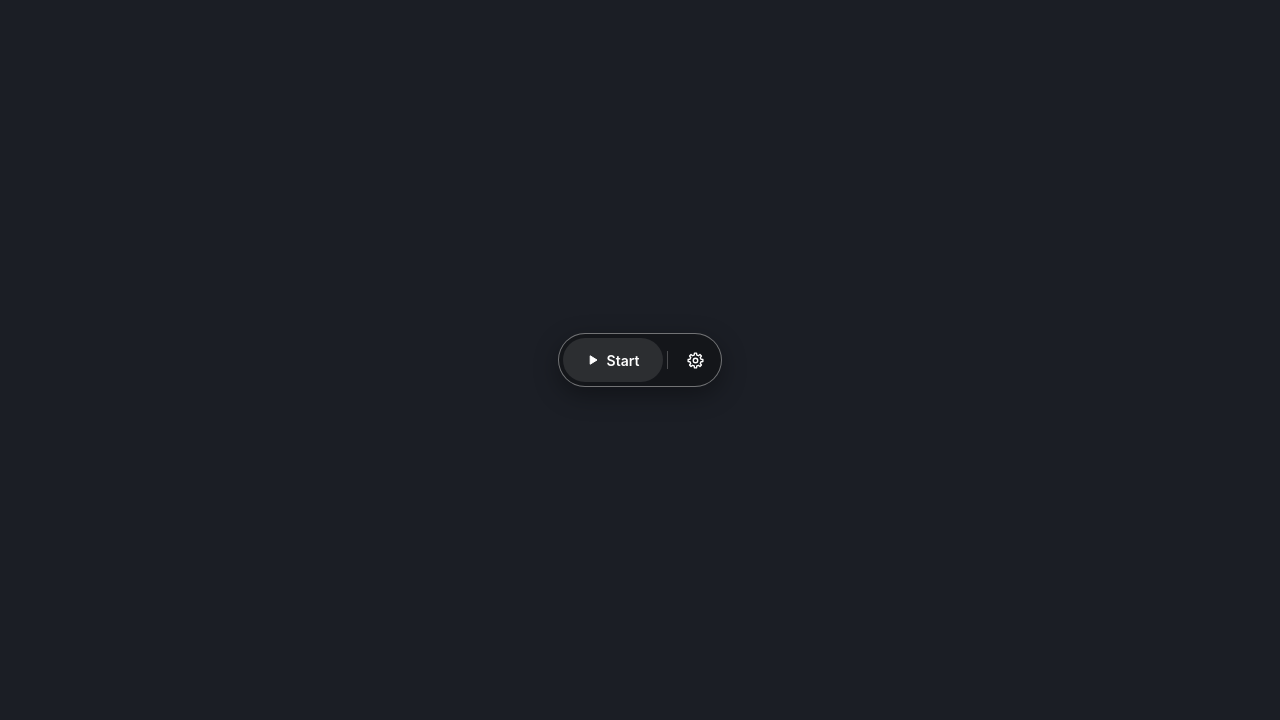
it: save as new › cancels with the Cancel button
The image size is (1280, 720).
Type keys "s"
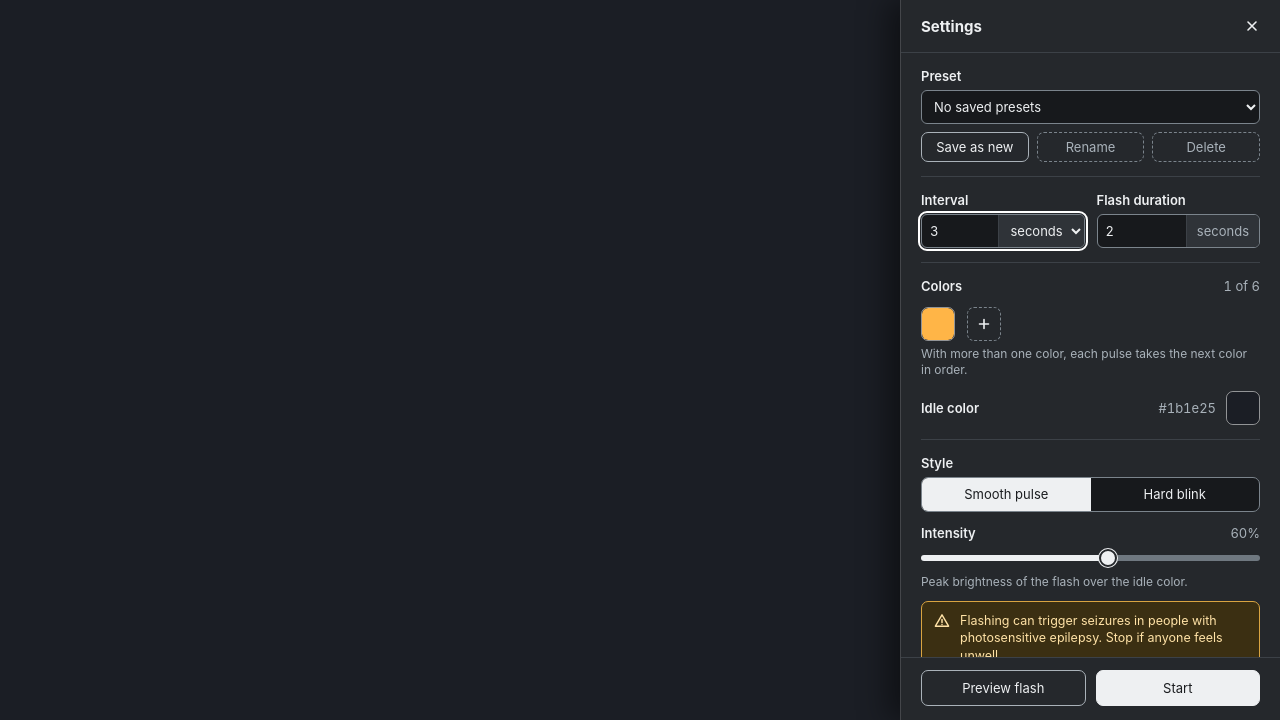
Click the button "Save as new": (975, 147) [921,132,1029,162]
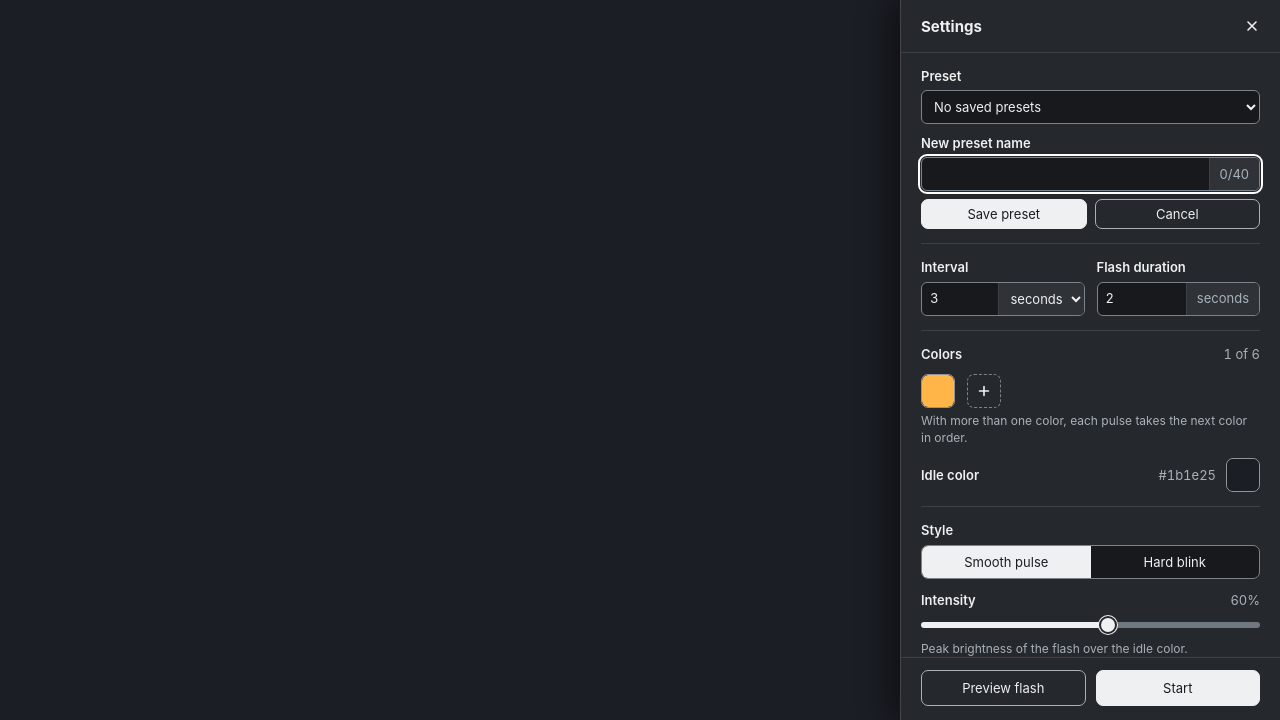
In the field: (1065, 174) [922,158,1208,190], type "Nope"
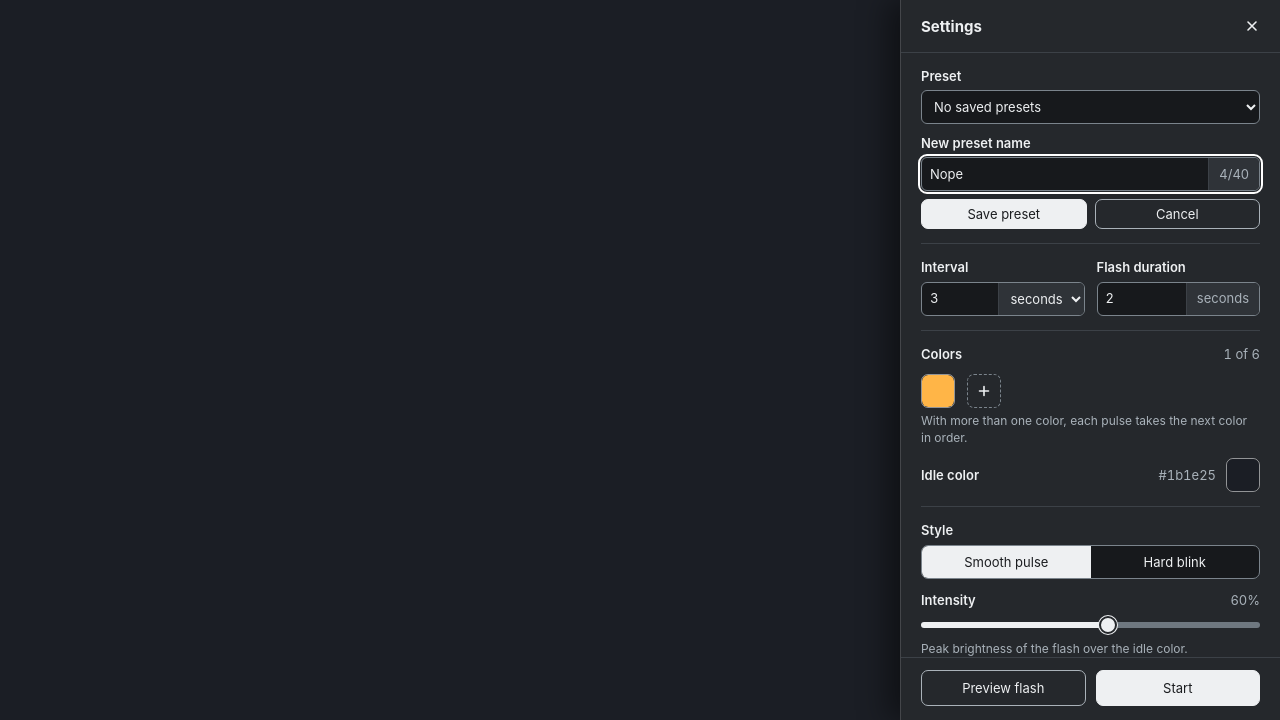
Click the button "Cancel": (1177, 214) [1094,199,1260,229]
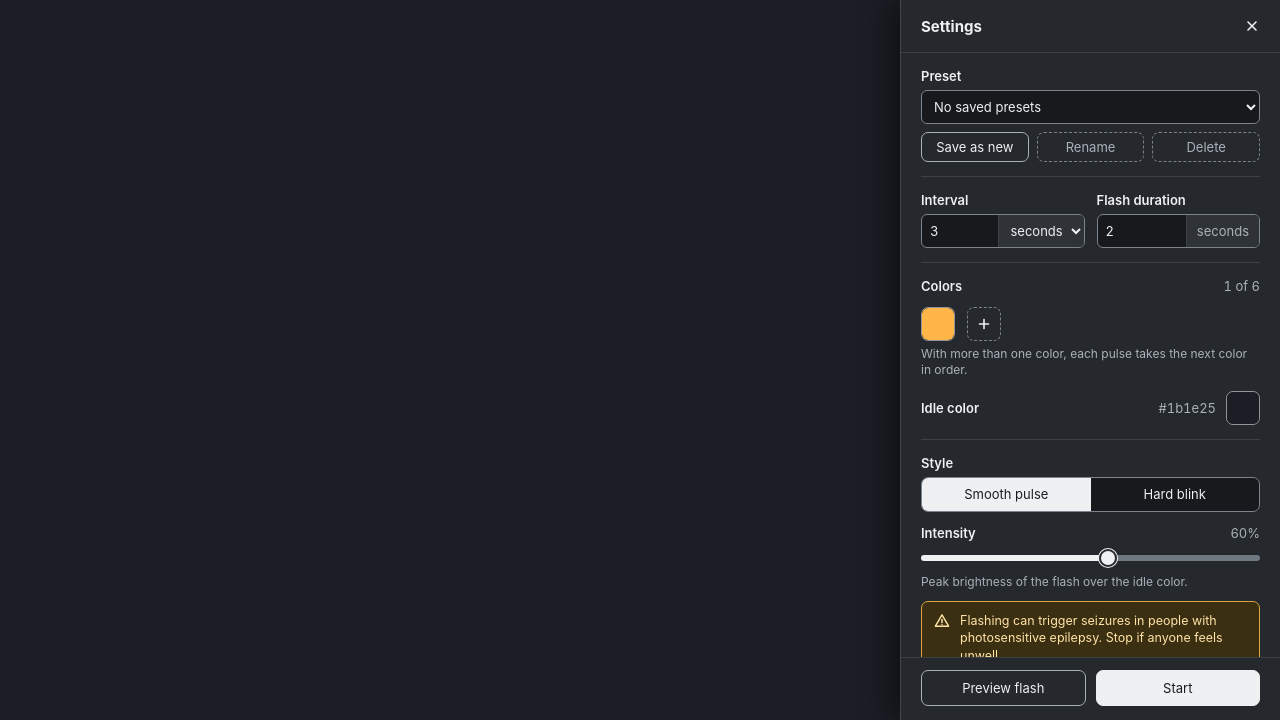
Check: the field is gone
